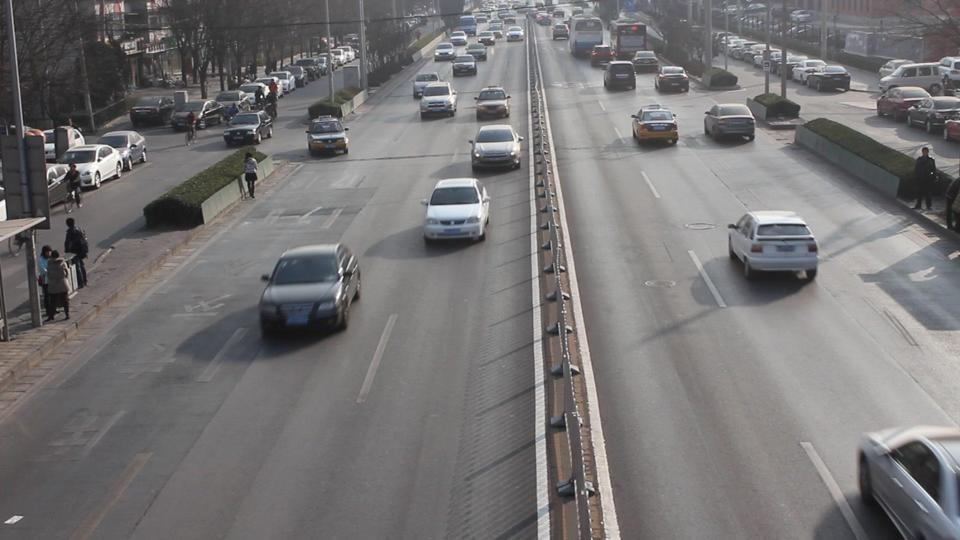car: (854, 423, 960, 537), (258, 243, 362, 337), (726, 210, 819, 282), (421, 177, 492, 243), (59, 145, 123, 189), (468, 124, 523, 172), (878, 62, 953, 96), (703, 102, 756, 144), (630, 105, 680, 148), (875, 86, 932, 121), (906, 95, 960, 131), (97, 130, 148, 168), (305, 116, 351, 158), (222, 112, 274, 147), (129, 93, 178, 128), (39, 126, 86, 162), (416, 82, 459, 120), (803, 64, 851, 93), (474, 86, 511, 122), (603, 61, 636, 93), (943, 172, 960, 232), (655, 65, 689, 94), (411, 72, 443, 99), (631, 49, 660, 74), (453, 55, 477, 76), (505, 25, 524, 42)
